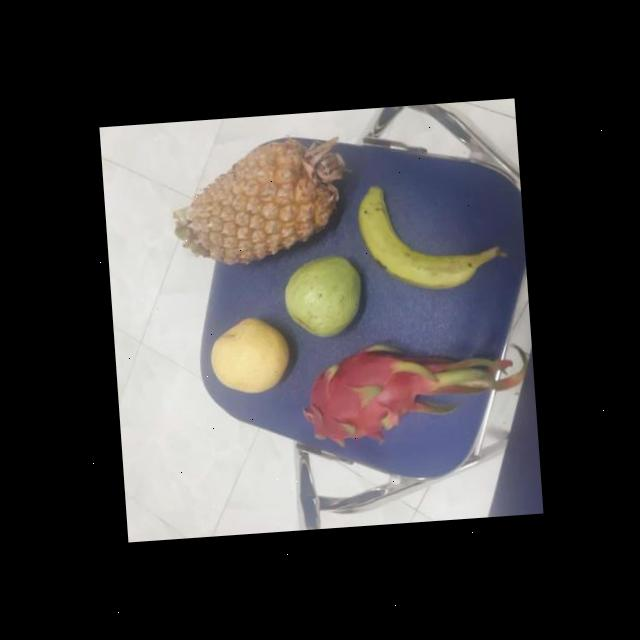banana: (356, 180, 488, 300)
guava: (282, 255, 362, 342)
pear: (207, 313, 292, 400)
pineapple: (176, 138, 348, 268)
pitaya: (302, 338, 438, 452)
